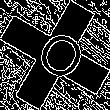O_SW: (24, 22, 86, 88)
